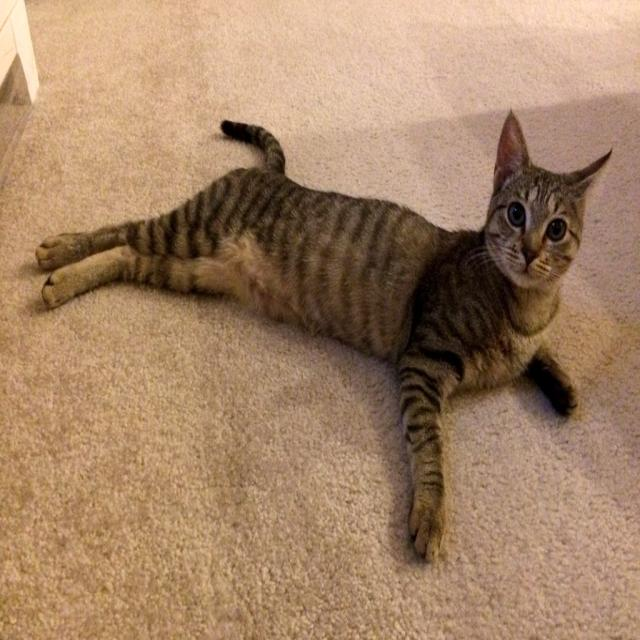Cat: (33, 102, 613, 564)
